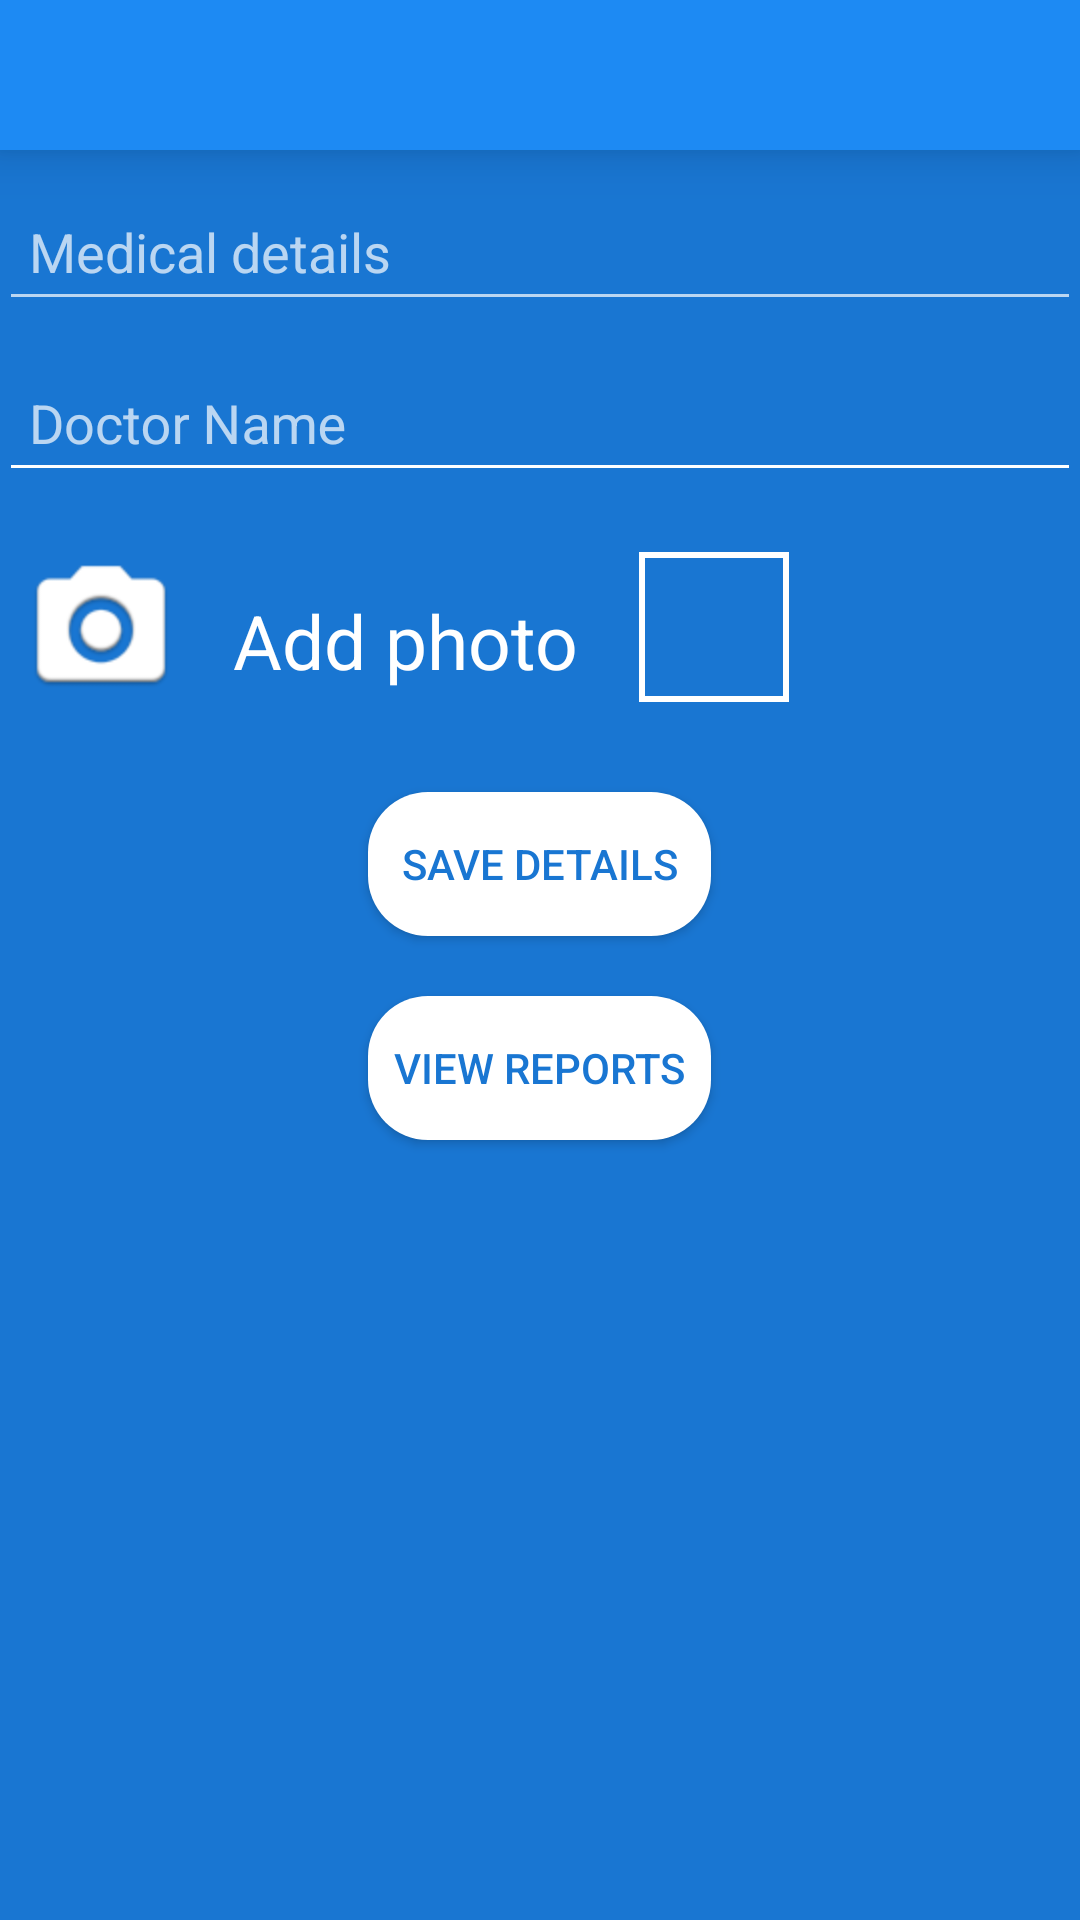

Icons on this 1080 x 1920 Android screen, each with its box as (x1, y1, x2, y2):
cam: (36, 565, 166, 684)
